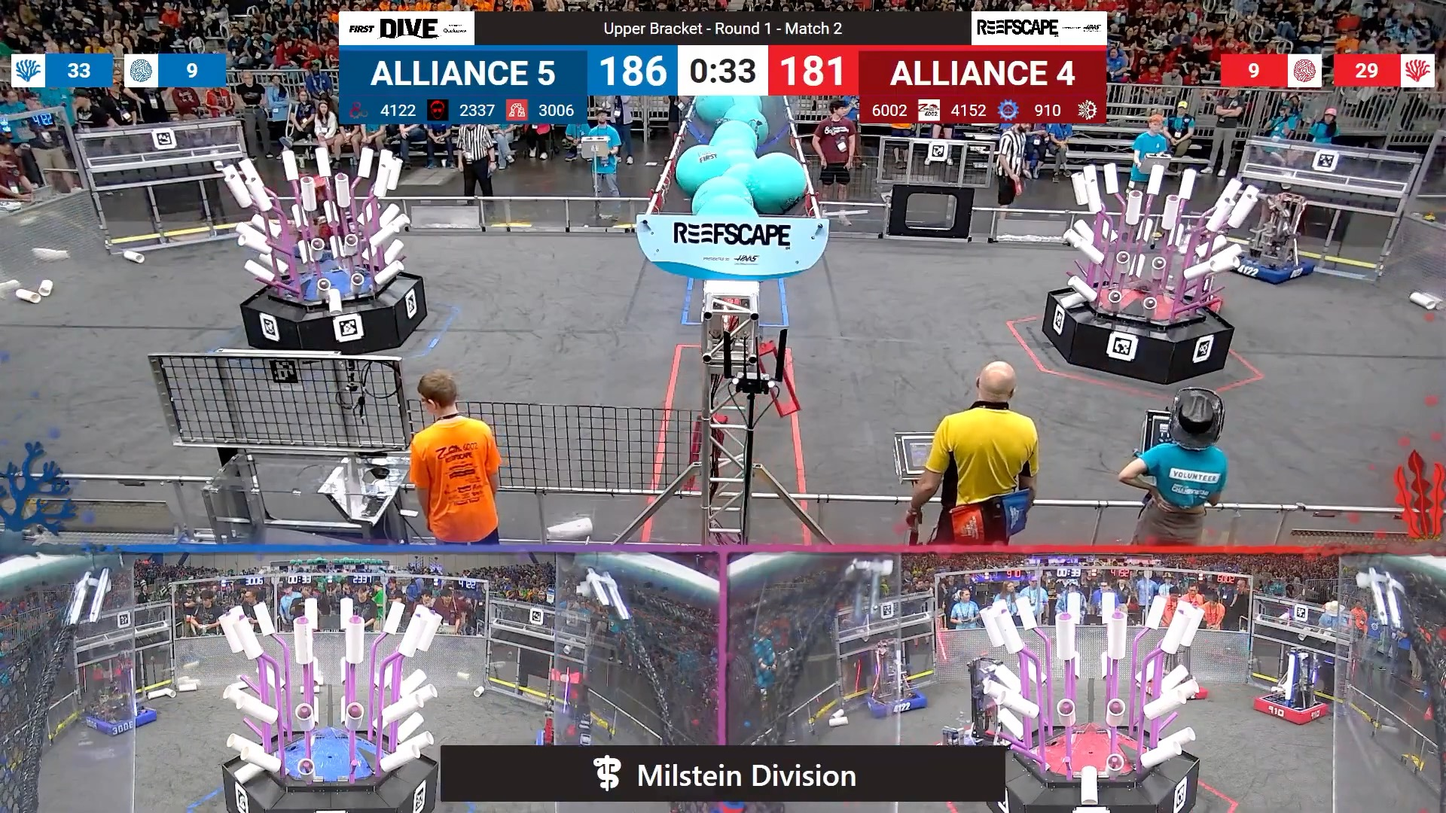bumpers: (1221, 251, 1322, 289), (79, 702, 165, 742), (1247, 692, 1338, 727), (858, 687, 933, 720)
